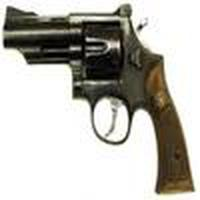gun: (1, 9, 195, 197)
